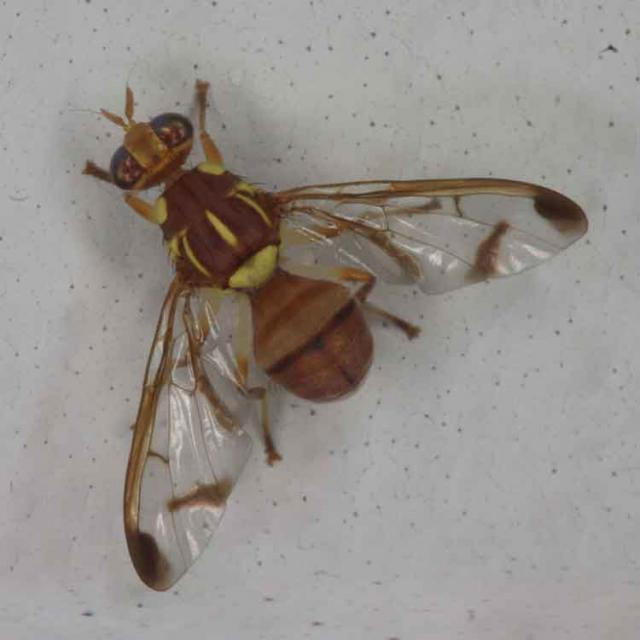Fruit fly: (77, 74, 596, 603)
